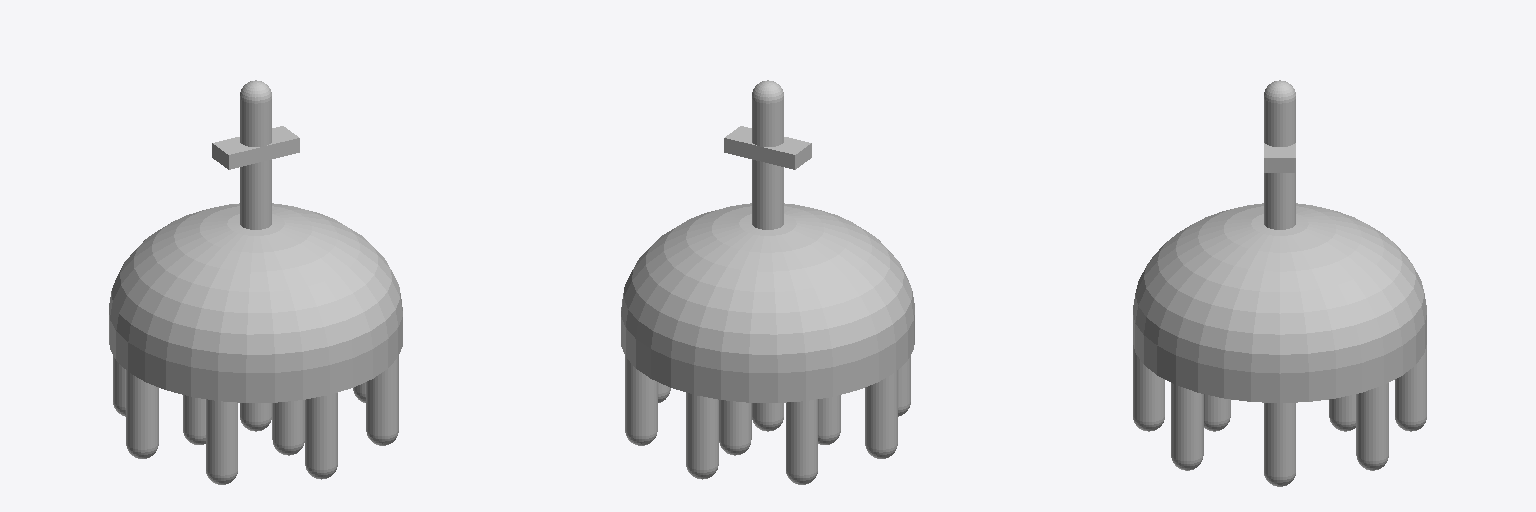
File: NOP_Pounder.obj
3 views of the same model, side by side, from view 1: azimuth 30°, elevation 25°; view 2: azimuth 150°, elevation 25°; view 3: azimuth 270°, elevation 25° (orthographic).
Parts seen in each view (by area): view 1: NOP_Pounder; view 2: NOP_Pounder; view 3: NOP_Pounder.
Boxes of the visible parts, box(x1,y1,x2,y2) form: NOP_Pounder: box(109, 80, 402, 484); NOP_Pounder: box(621, 80, 914, 484); NOP_Pounder: box(1133, 80, 1426, 486).
Bounding box in the file's own units: 14.54 × 18.94 × 14.54.